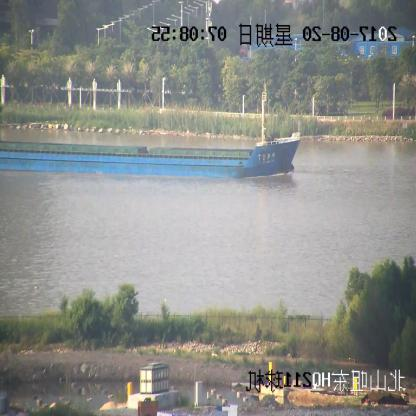Bulk Carrier: (0, 92, 302, 180)
